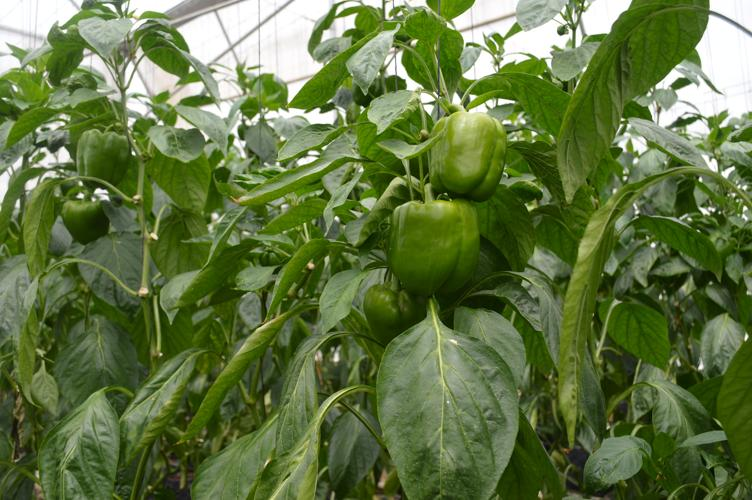BellPepper: (376, 190, 487, 290), (416, 106, 510, 199), (63, 126, 149, 187), (356, 270, 419, 335), (55, 186, 116, 243)
